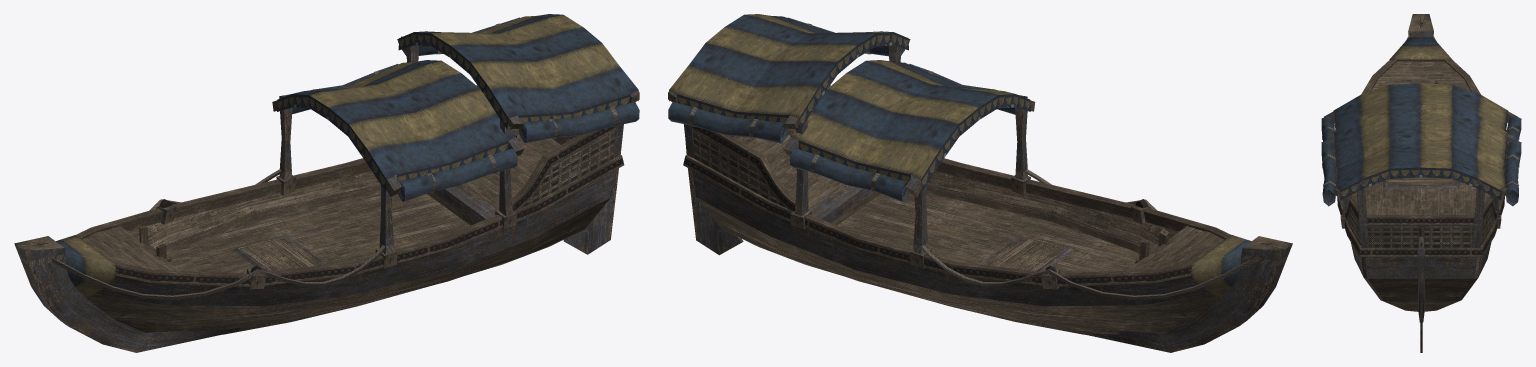
Rendered from eso_gu8_Boat2-transformed.glb.
3 renders of one model, left to right at view 1: azimuth 30°, elevation 25°; view 2: azimuth 150°, elevation 25°; view 3: azimuth 270°, elevation 25°, orthographic. The views are drawn at different scales.
Visible parts, largest first — view 1: default; view 2: default; view 3: default.
Boxes of the visible parts, <box> form: default: <box>14,14,639,352</box>; default: <box>668,14,1292,352</box>; default: <box>1321,14,1521,352</box>.
Size of the model in its own units: 15.07 by 5.71 by 5.36.
Materials: 1 (1 with a texture image).
